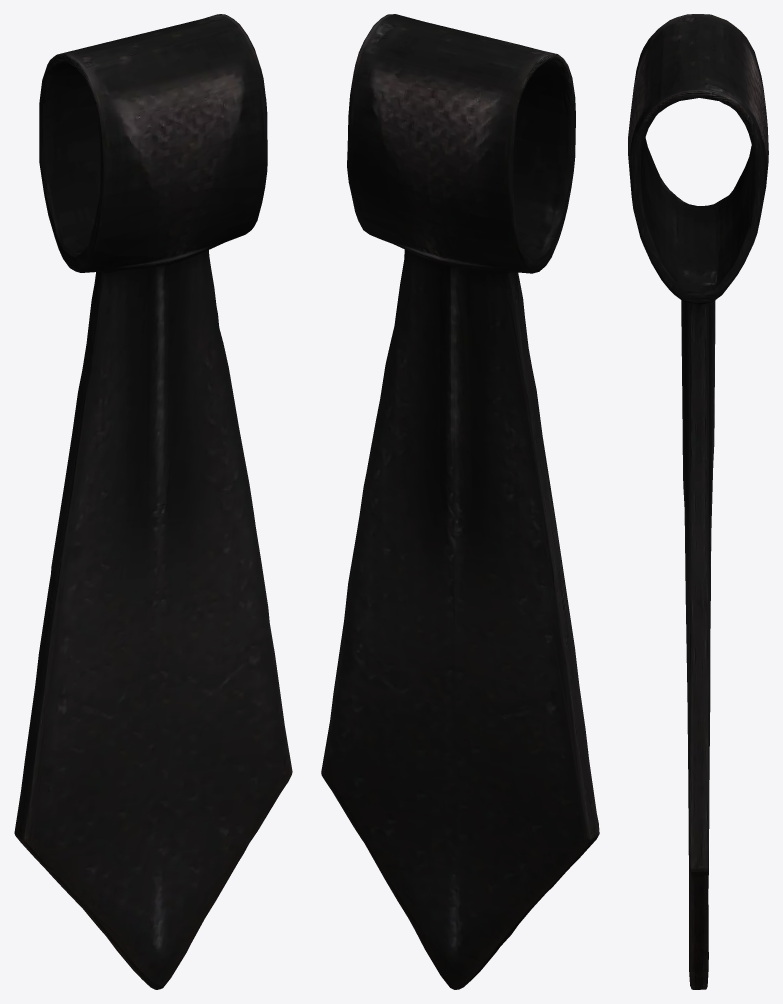
The model's file is books_stack_tall.glb.
3 renders of one model, left to right at view 1: azimuth 30°, elevation 25°; view 2: azimuth 150°, elevation 25°; view 3: azimuth 270°, elevation 25°, orthographic.
Visible parts, largest first — view 1: geometry_0; view 2: geometry_0; view 3: geometry_0.
Part boxes in pixels (<box>): geometry_0: <box>14,14,292,989</box>; geometry_0: <box>321,14,599,989</box>; geometry_0: <box>628,14,768,989</box>.
Size of the model in its own units: 0.2966 by 1 by 0.1364.
Materials: 1 (1 with a texture image).
